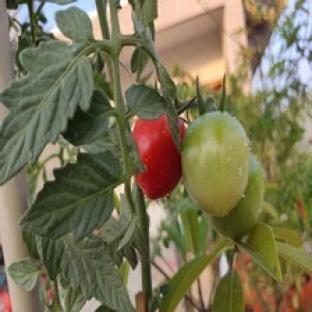Tomato: (182, 112, 249, 217), (211, 155, 264, 239), (133, 115, 181, 199)
